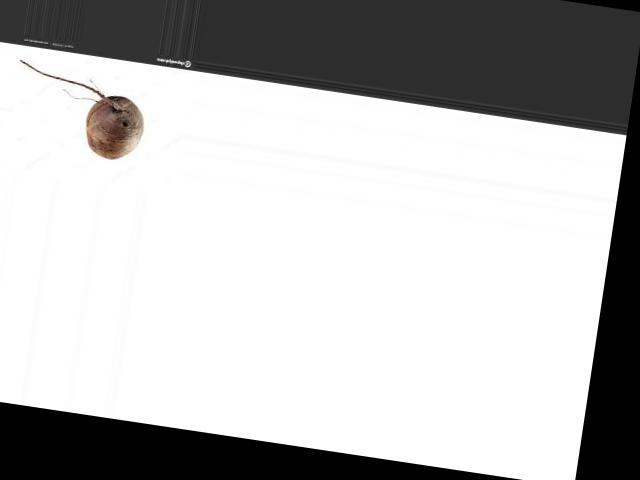beet: (7, 59, 150, 162)
